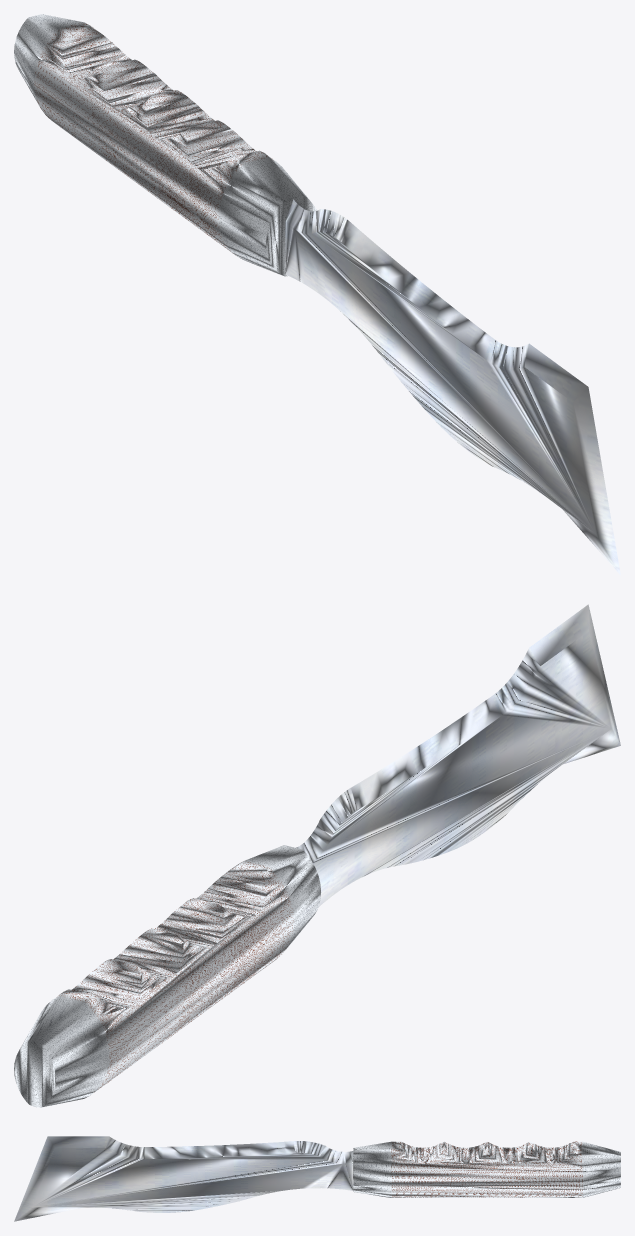
The model's file is model_align.obj.
3 views of the same model, one above another, from view 1: azimuth 30°, elevation 25°; view 2: azimuth 150°, elevation 25°; view 3: azimuth 270°, elevation 25° (orthographic). The views are drawn at different scales.
Bounding box in the file's own units: 0.0159 × 0.0333 × 0.2139.
4 materials, 4 textured.
